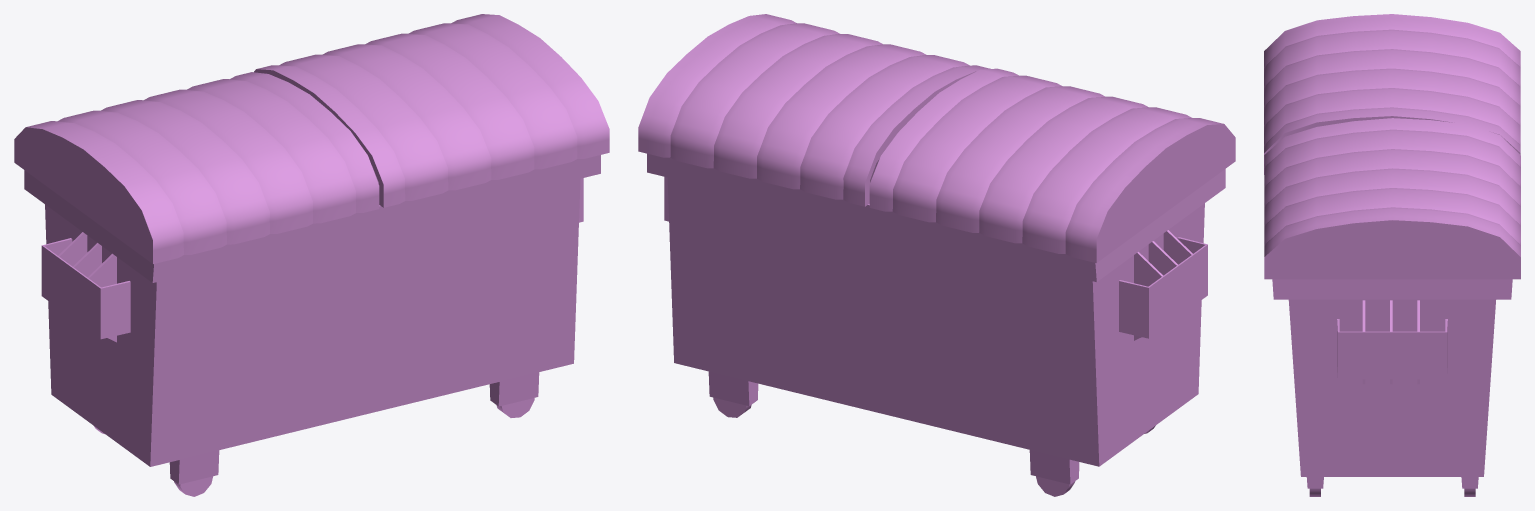
The model's file is TrashContainer.fbx.
3 renders of one model, left to right at view 1: azimuth 30°, elevation 25°; view 2: azimuth 150°, elevation 25°; view 3: azimuth 270°, elevation 25°, orthographic. The views are drawn at different scales.
Parts seen in each view (by area): view 1: TrashContainer001, Cap001; view 2: TrashContainer001, Cap001; view 3: Cap001, TrashContainer001.
Part boxes in pixels (box(x1,y1,x2,y2)): TrashContainer001: box(24, 155, 600, 496); Cap001: box(14, 14, 609, 263); TrashContainer001: box(647, 153, 1225, 496); Cap001: box(638, 14, 1235, 262); Cap001: box(1264, 14, 1520, 279); TrashContainer001: box(1272, 279, 1512, 496).
Bounding box in the file's own units: 87.15 × 57.05 × 43.42.
